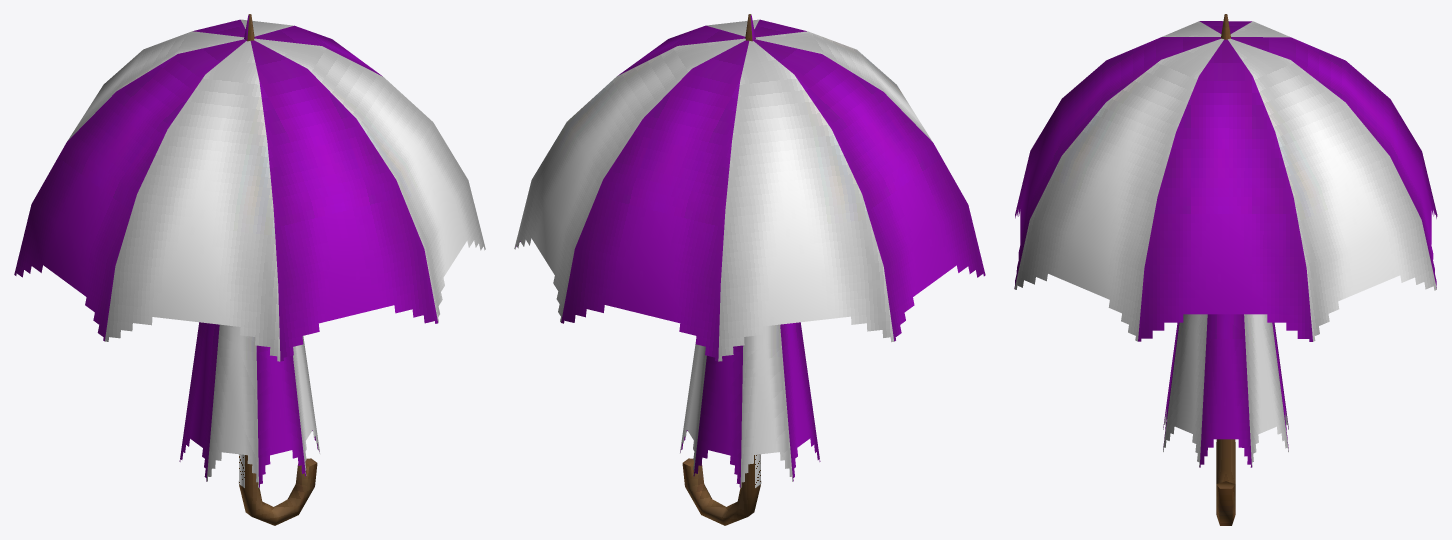
Rendered from umbrella.glb.
The picture shows the model from 3 angles, left to right: view 1: azimuth 30°, elevation 25°; view 2: azimuth 150°, elevation 25°; view 3: azimuth 270°, elevation 25°; orthographic projection. The views are drawn at different scales.
Visible parts, largest first — view 1: open, closed, handle; view 2: open, closed, handle; view 3: open, closed, handle.
Boxes of the visible parts, x1,y1,x2,y2 form: open: (14,19,485,361); closed: (179,322,319,487); handle: (238,14,317,525); open: (514,19,985,361); closed: (680,322,820,487); handle: (682,14,761,525); open: (1014,21,1437,341); closed: (1163,314,1288,467); handle: (1216,14,1235,525).
Bounding box in the file's own units: 2.89 × 3.73 × 2.89.
2 materials, 2 textured.
